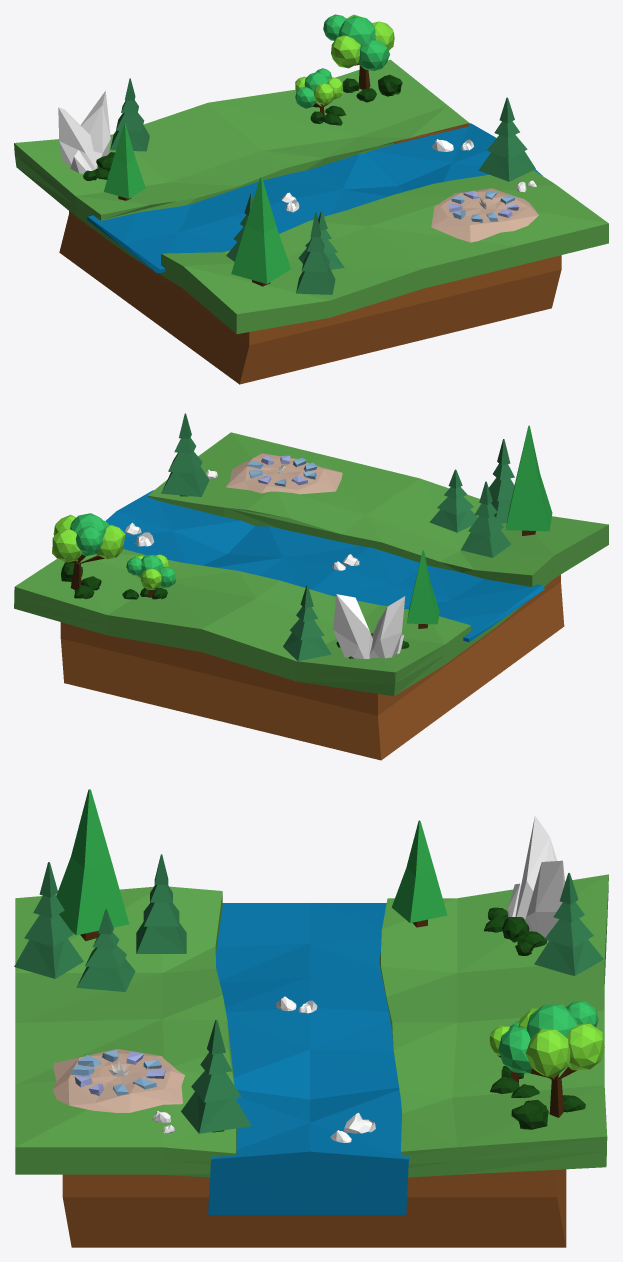
Rendered from low_poly_landscape_with_river_and_trees.glb.
3 views of the same model, one above another, from view 1: azimuth 30°, elevation 25°; view 2: azimuth 150°, elevation 25°; view 3: azimuth 270°, elevation 25° (orthographic). The views are drawn at different scales.
Parts seen in each view (by area): view 1: Material_001-material (×2), Material-material (×2), Material_002-material, Material_005-material (×4), Material_003-material (×2), Material_013-material, Material_008-material (×2), Material_009-material (×2), Icosphere, Icosphere.001, Material_014-material; view 2: Material_001-material (×2), Material-material (×2), Material_002-material, Material_005-material (×5), Material_003-material (×2), Material_013-material, Material_009-material (×2), Material_008-material (×2), Icosphere.001, Icosphere, Material_014-material; view 3: Material_001-material (×2), Material_002-material, Material-material (×2), Material_005-material (×5), Material_003-material (×2), Material_013-material, Material_009-material, Material_008-material, Icosphere.001, Icosphere, Material_014-material, Material_012-material (+2 smaller).
Boxes of the visible parts, x1,y1,x2,y2 form: Material_001-material (×2): (14, 59, 608, 333); Material-material (×2): (59, 123, 561, 384); Material_002-material: (87, 123, 542, 273); Material_005-material (×4): (110, 78, 535, 294); Material_003-material (×2): (103, 123, 290, 283); Material_013-material: (431, 188, 538, 242); Material_008-material (×2): (295, 14, 389, 108); Material_009-material (×2): (295, 14, 394, 104); Icosphere: (58, 107, 96, 169); Icosphere.001: (80, 91, 110, 165); Material_014-material: (451, 190, 514, 222); Material_001-material (×2): (14, 432, 608, 696); Material-material (×2): (60, 574, 564, 760); Material_002-material: (106, 490, 544, 642); Material_005-material (×5): (161, 413, 514, 661); Material_003-material (×2): (407, 425, 552, 624); Material_013-material: (226, 453, 342, 494); Material_009-material (×2): (52, 515, 168, 589); Material_008-material (×2): (70, 513, 175, 587); Icosphere.001: (333, 594, 372, 658); Icosphere: (369, 596, 405, 658); Material_014-material: (247, 457, 317, 486); Material_001-material (×2): (15, 874, 608, 1177); Material_002-material: (208, 903, 408, 1214); Material-material (×2): (62, 1169, 566, 1247); Material_005-material (×5): (14, 854, 603, 1133); Material_003-material (×2): (56, 789, 447, 935); Material_013-material: (52, 1049, 184, 1112); Material_009-material: (518, 1008, 604, 1077); Material_008-material: (498, 1001, 598, 1073); Icosphere.001: (525, 860, 564, 941); Icosphere: (515, 816, 557, 919); Material_014-material: (71, 1050, 161, 1095); Material_012-material: (511, 1102, 548, 1129).
Size of the model in its own units: 7.43 by 3.59 by 7.22.
